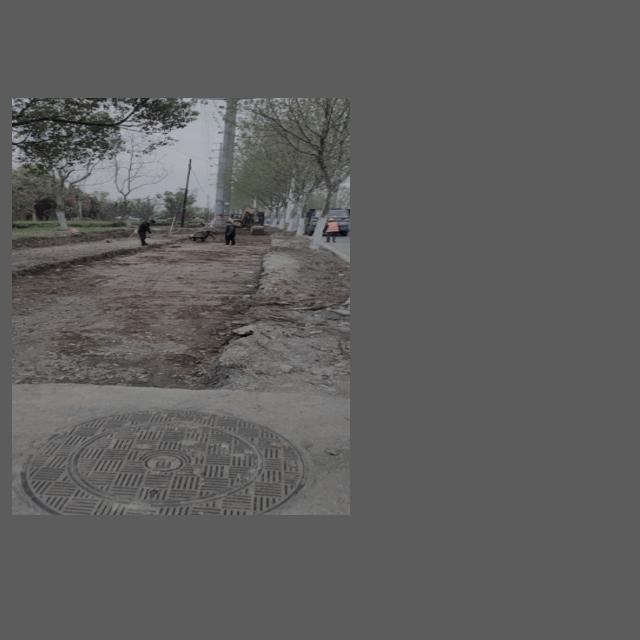good: (20, 404, 320, 515)
